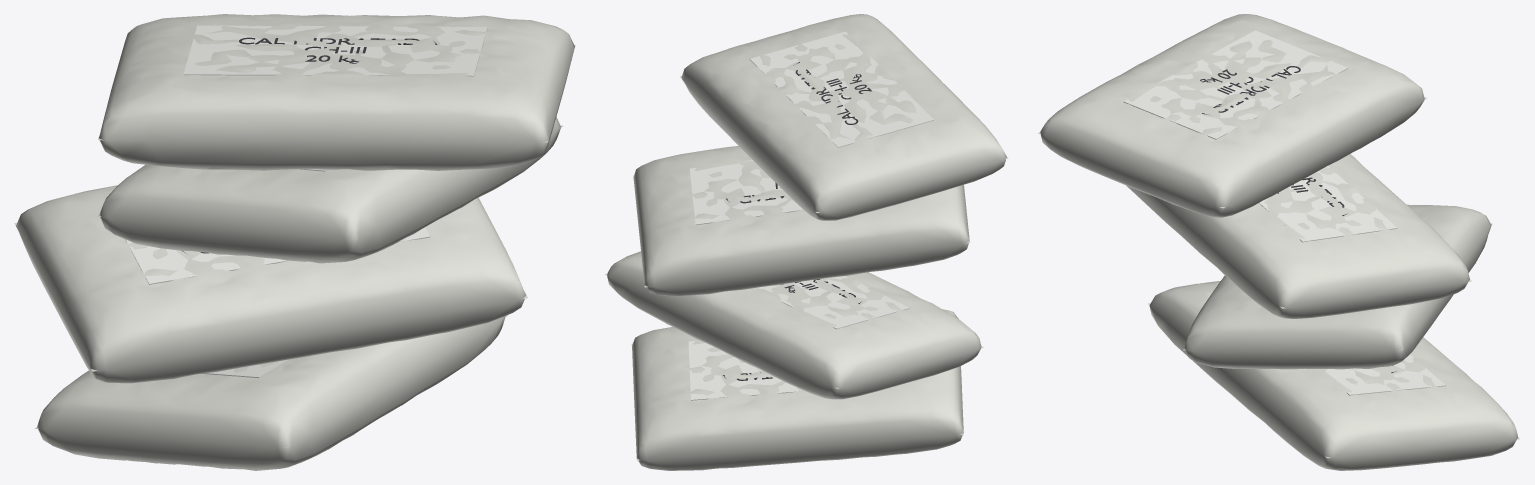
Rendered from ALV-ARG-002_anim.glb.
3 views of the same model, side by side, from view 1: azimuth 30°, elevation 25°; view 2: azimuth 150°, elevation 25°; view 3: azimuth 270°, elevation 25° (orthographic). The views are drawn at different scales.
Parts seen in each view (by area): view 1: ALV-ARG-002_anim3, ALV-ARG-002_anim1, ALV-ARG-002_anim0, ALV-ARG-002_anim2; view 2: ALV-ARG-002_anim3, ALV-ARG-002_anim2, ALV-ARG-002_anim0, ALV-ARG-002_anim1; view 3: ALV-ARG-002_anim3, ALV-ARG-002_anim2, ALV-ARG-002_anim0, ALV-ARG-002_anim1.
Boxes of the visible parts, x1,y1,x2,y2 form: ALV-ARG-002_anim3: (98,14,575,170); ALV-ARG-002_anim1: (14,185,527,383); ALV-ARG-002_anim0: (35,315,507,470); ALV-ARG-002_anim2: (97,116,562,263); ALV-ARG-002_anim3: (680,14,1008,220); ALV-ARG-002_anim2: (633,146,969,296); ALV-ARG-002_anim0: (631,309,963,470); ALV-ARG-002_anim1: (604,251,983,399); ALV-ARG-002_anim3: (1038,14,1426,217); ALV-ARG-002_anim2: (1126,154,1471,318); ALV-ARG-002_anim0: (1148,281,1519,470); ALV-ARG-002_anim1: (1183,204,1492,369).
Size of the model in its own units: 0.6629 by 0.5675 by 0.7182.
3 materials, 1 textured.
